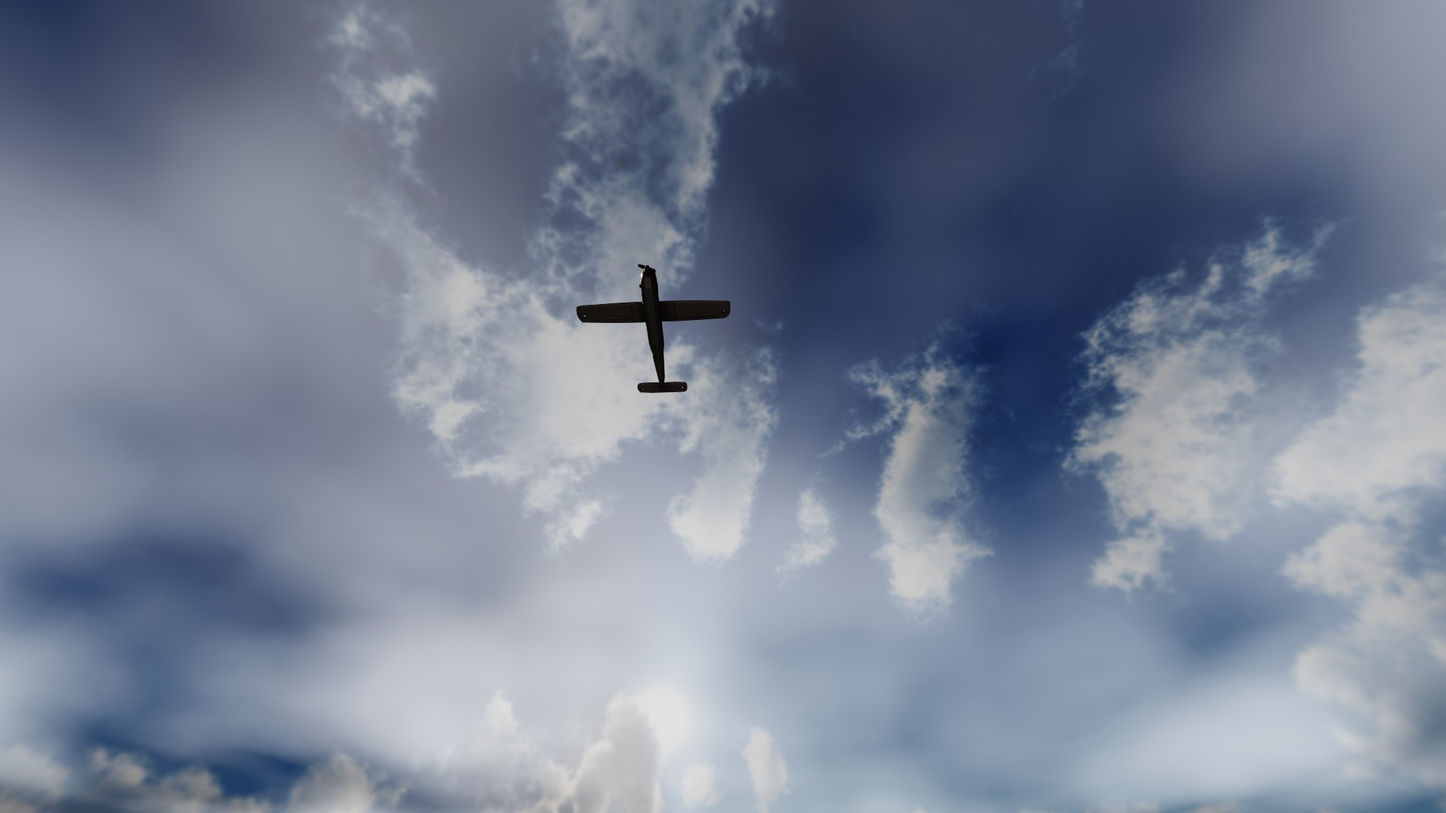drone_other: (576, 264, 731, 393)
